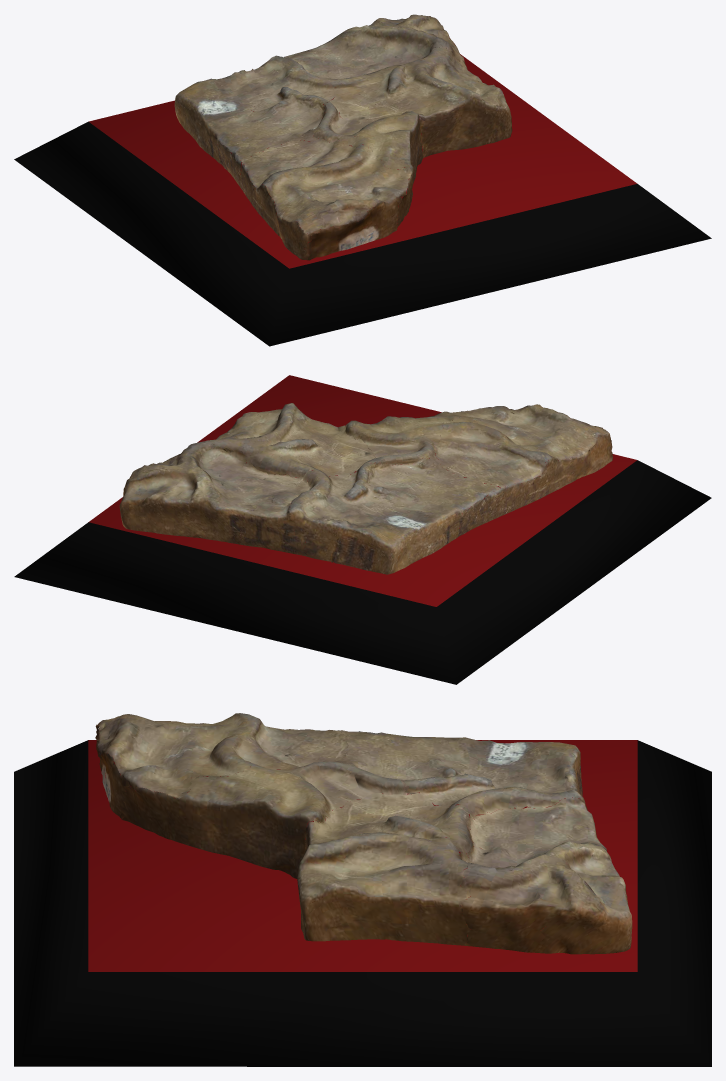
Rendered from iconofosiles.glb.
3 renders of one model, top to bottom at view 1: azimuth 30°, elevation 25°; view 2: azimuth 150°, elevation 25°; view 3: azimuth 270°, elevation 25°, orthographic. The views are drawn at different scales.
Visible parts, largest first — view 1: gusi; view 2: gusi; view 3: gusi.
Boxes of the visible parts, x1,y1,x2,y2 form: gusi: (14,14,711,346); gusi: (14,375,711,684); gusi: (14,713,711,1066).
Bounding box in the file's own units: 10 × 2.14 × 10.
Materials: 4 (2 with a texture image).
